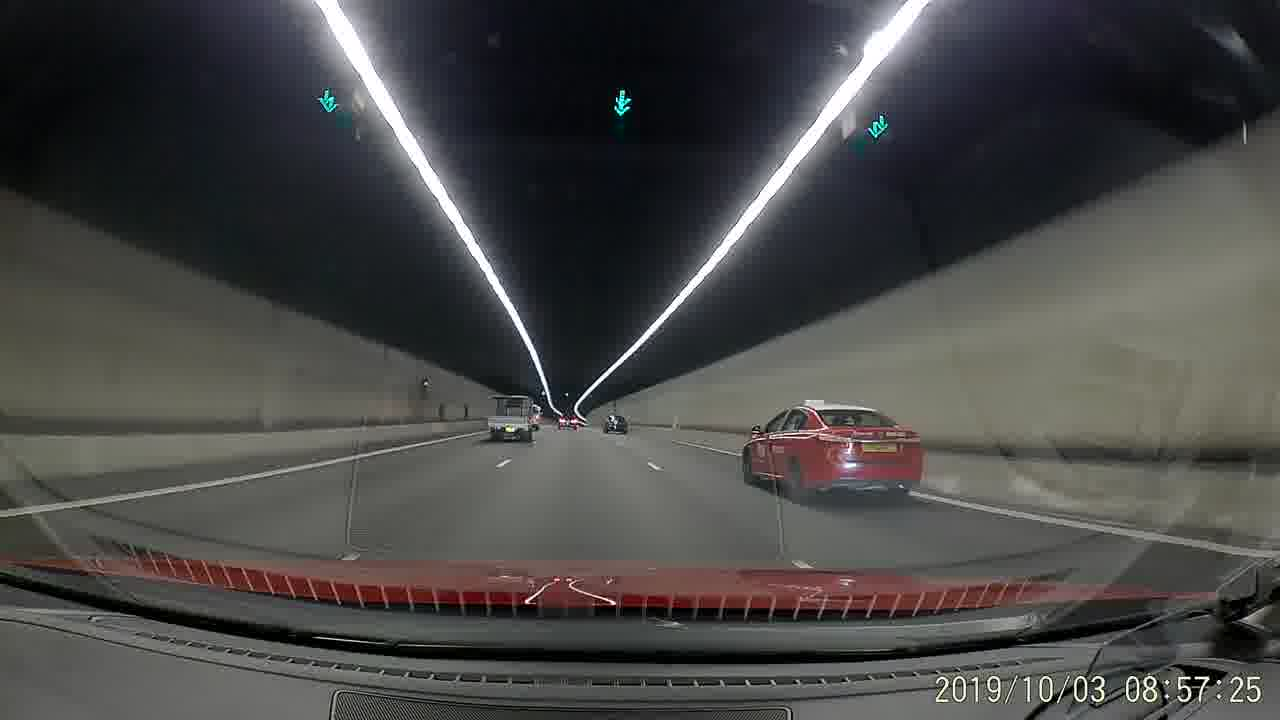car: (740, 400, 921, 501), (601, 411, 630, 435), (556, 411, 581, 432)
